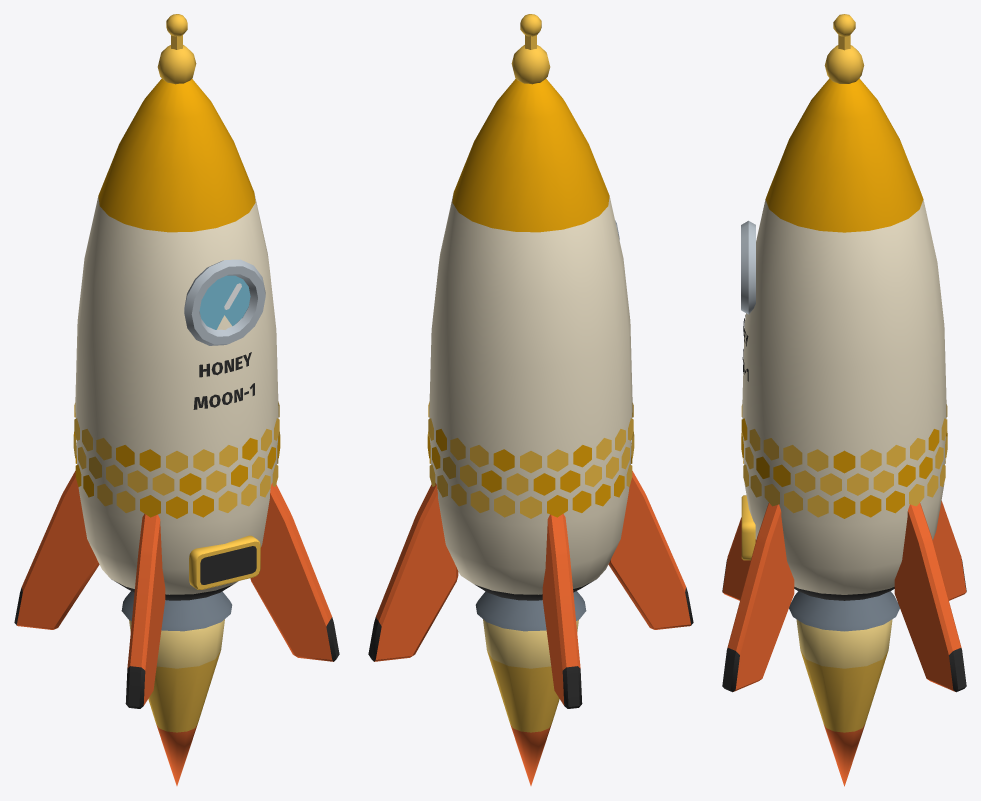
File: rocket.fbx
3 views of the same model, side by side, from view 1: azimuth 30°, elevation 25°; view 2: azimuth 150°, elevation 25°; view 3: azimuth 270°, elevation 25° (orthographic).
Parts seen in each view (by area): view 1: Hull, Flame; view 2: Hull, Flame; view 3: Hull, Flame.
Part boxes in pixels (x1,y1,x2,y2): Hull: (14, 14, 339, 708); Flame: (129, 619, 224, 785); Hull: (368, 14, 693, 708); Flame: (483, 619, 578, 785); Hull: (722, 14, 966, 692); Flame: (796, 619, 892, 786).
Bounding box in the file's own units: 0.21 × 0.733 × 0.21.
Materials: 2 (2 with a texture image).
